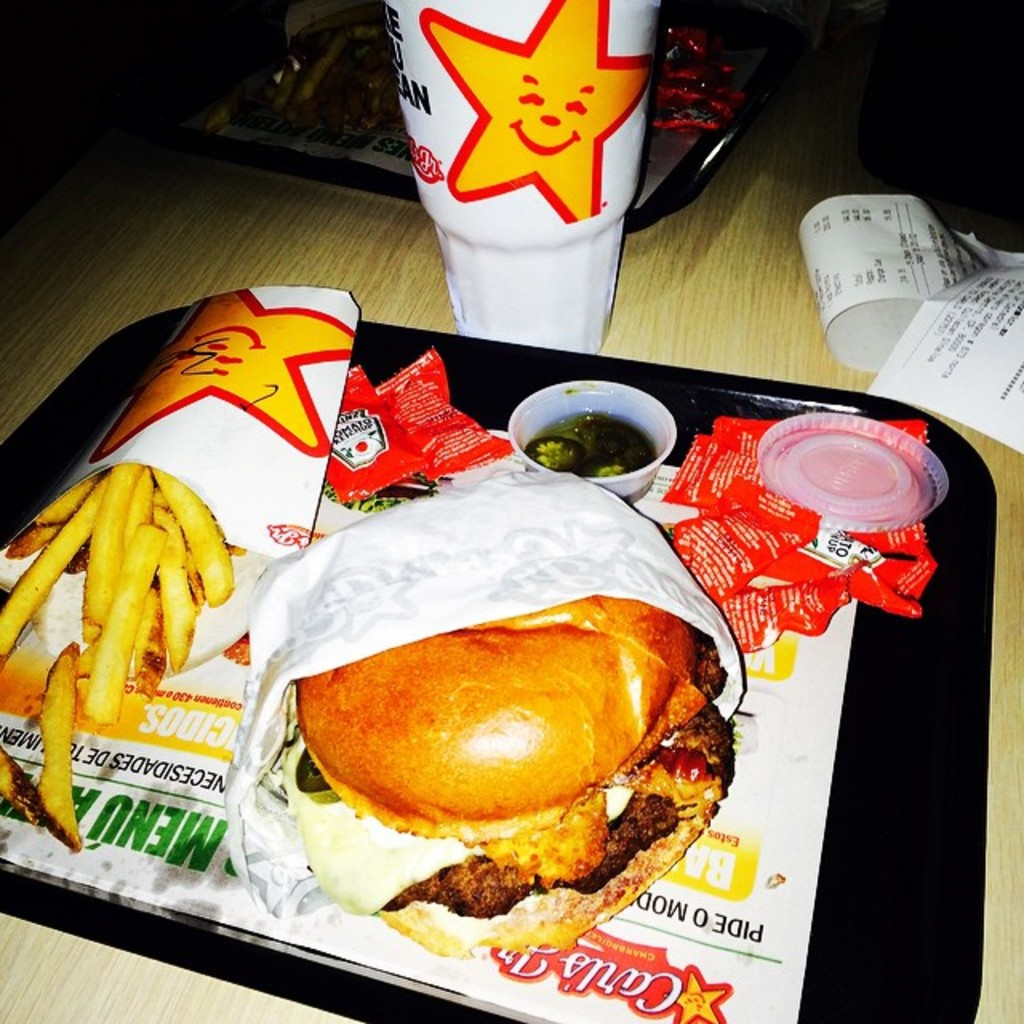French fries: (0, 457, 244, 852)
